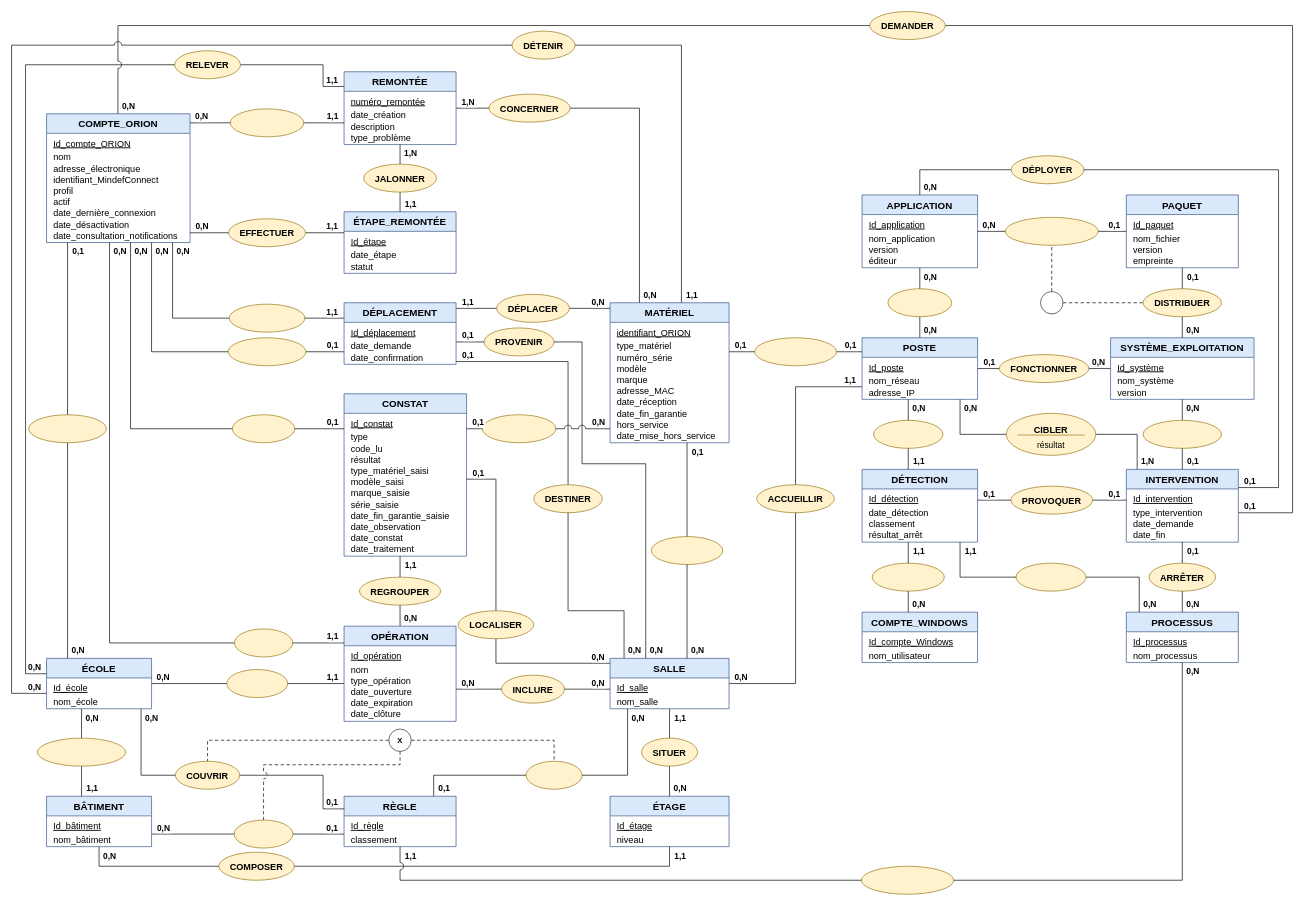
This 1304x906 diagram has some shape labels left out. The shapes that lost their labels are listed below. From the top down, each one's centre as x and y in pixels, then its label:
At [267,122]: "DÉCLARER".
At [1051,231]: "CONDITIONNER".
At [267,317]: "ORDONNER".
At [919,302]: "ÉQUIPER".
At [1051,302]: "XT".
At [266,351]: "CONFIRMER".
At [795,351]: "CONSTITUER".
At [67,428]: "RATTACHER".
At [263,428]: "TRAITER".
At [519,428]: "IDENTIFIER".
At [908,434]: "SURVENIR".
At [1182,434]: "RESTAURER".
At [687,550]: "AFFECTER".
At [908,576]: "EXÉCUTER".
At [1050,576]: "SIGNALER".
At [263,642]: "OUVRIR".
At [257,683]: "PORTER".
At [81,751]: "COMPRENDRE".
At [553,775]: "VISER".
At [263,833]: "LIMITER".
At [907,880]: "RÉGLEMENTER".
